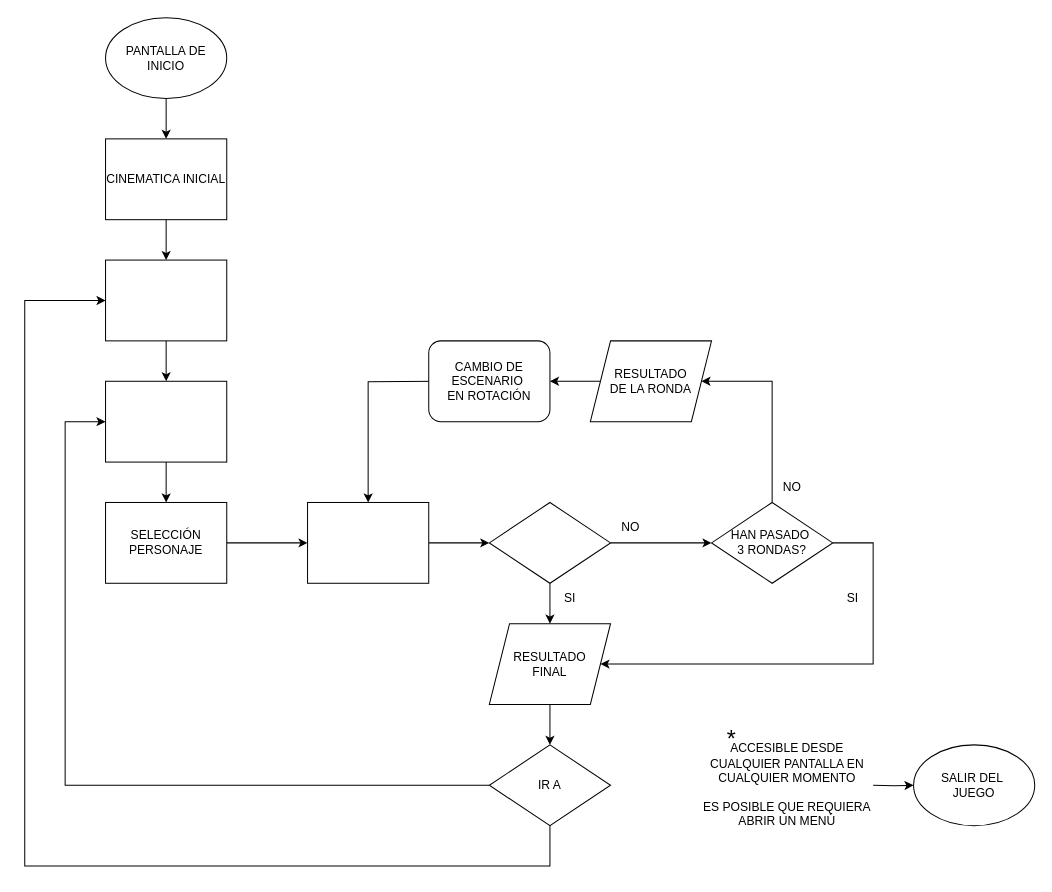
This 1052x892 diagram has some shape labels left out. The shapes that lost their labels are listed below. From the top down, each one's centre as x and y in pixels, then its label:
At [166,300]: "SELECCIÓN DE SERVIDOR".
At [166,421]: "SALA / MENU PRE-PARTIDA".
At [368,542]: "ESCENARIO DE COMBATE".
At [549,542]: "HAY GANADOR?".
